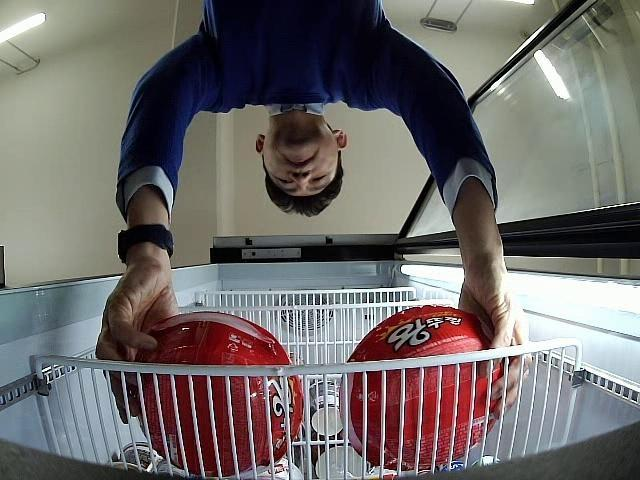10_wangTtukkeong: (138, 312, 304, 477), (340, 305, 505, 470)
